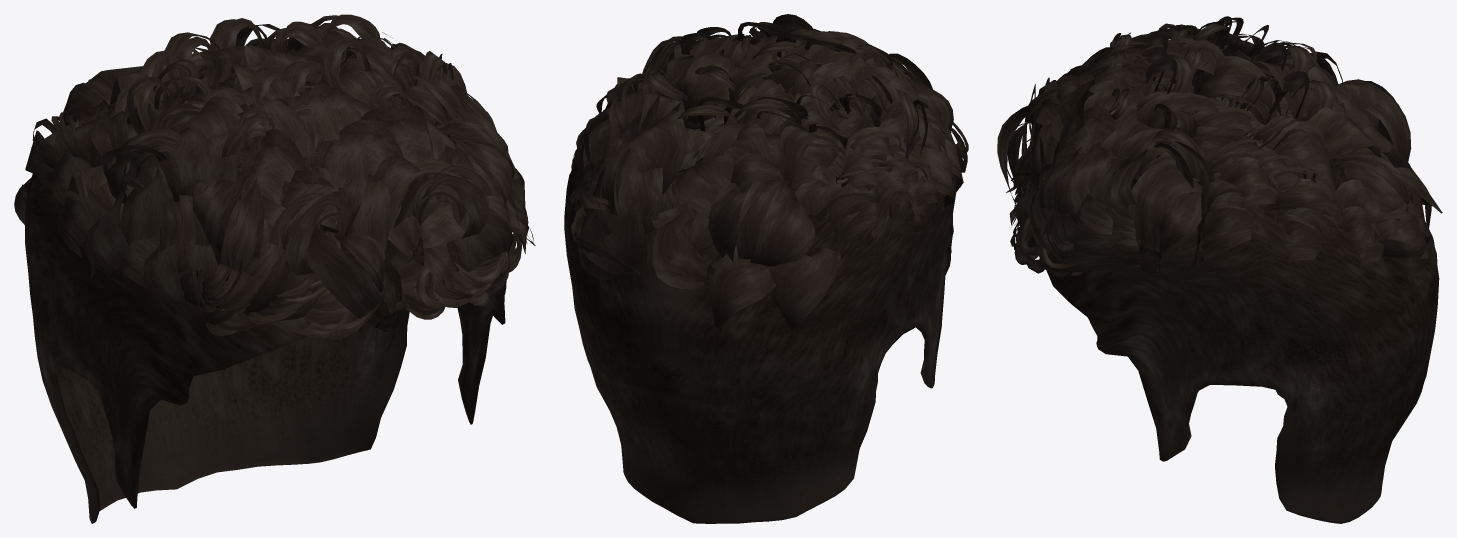
File: diamond_wavy_01 FrenchCroptriis.glb
The picture shows the model from 3 angles, left to right: view 1: azimuth 30°, elevation 25°; view 2: azimuth 150°, elevation 25°; view 3: azimuth 270°, elevation 25°; orthographic projection. The views are drawn at different scales.
Visible parts, largest first — view 1: HIGH TOP CURLS, SCALP_NEW.007; view 2: HIGH TOP CURLS, SCALP_NEW.007; view 3: HIGH TOP CURLS, SCALP_NEW.007.
Part boxes in pixels (x1,y1,x2,y2): HIGH TOP CURLS: (14,14,535,339); SCALP_NEW.007: (25,85,506,523); HIGH TOP CURLS: (567,14,968,329); SCALP_NEW.007: (564,100,956,523); HIGH TOP CURLS: (997,16,1442,278); SCALP_NEW.007: (1039,96,1439,523).
Bounding box in the file's own units: 0.1981 × 0.2434 × 0.2188.
Materials: 2 (2 with a texture image).
